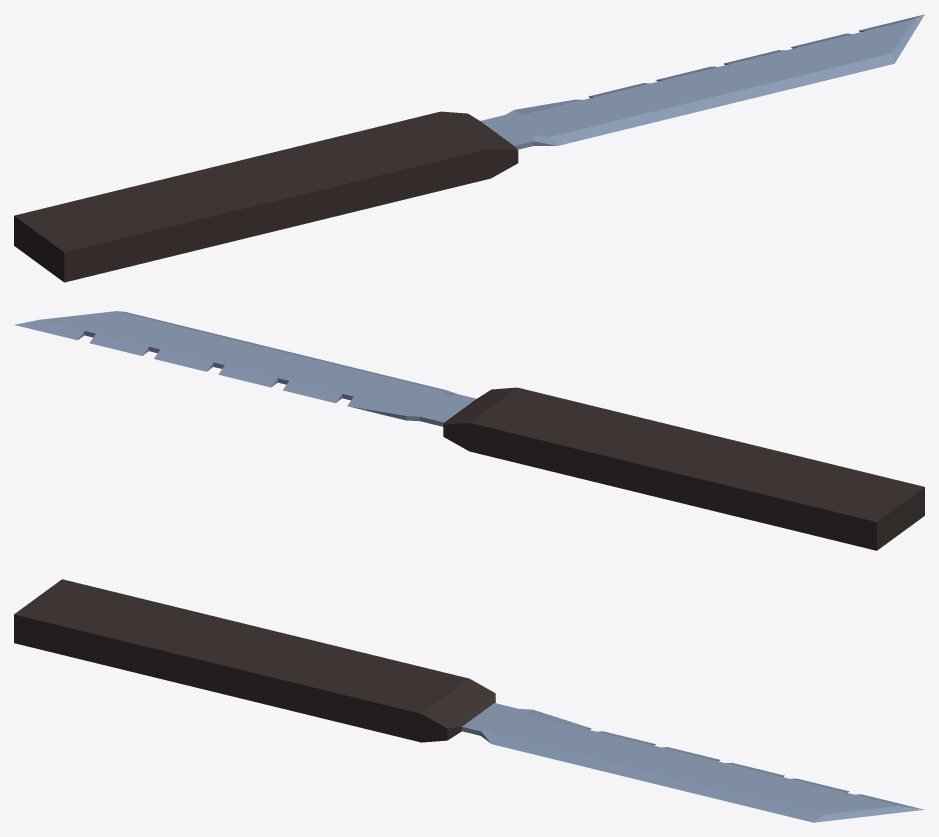
File: SM_Knife.fbx
3 views of the same model, one above another, from view 1: azimuth 30°, elevation 25°; view 2: azimuth 150°, elevation 25°; view 3: azimuth 330°, elevation 25° (orthographic). The views are drawn at different scales.
Visible parts, largest first — view 1: Knife; view 2: Knife; view 3: Knife.
Boxes of the visible parts, x1,y1,x2,y2 form: Knife: [14, 14, 924, 282]; Knife: [14, 311, 924, 550]; Knife: [14, 579, 924, 822].
Size of the model in its own units: 147 by 4.65 by 14.11.
